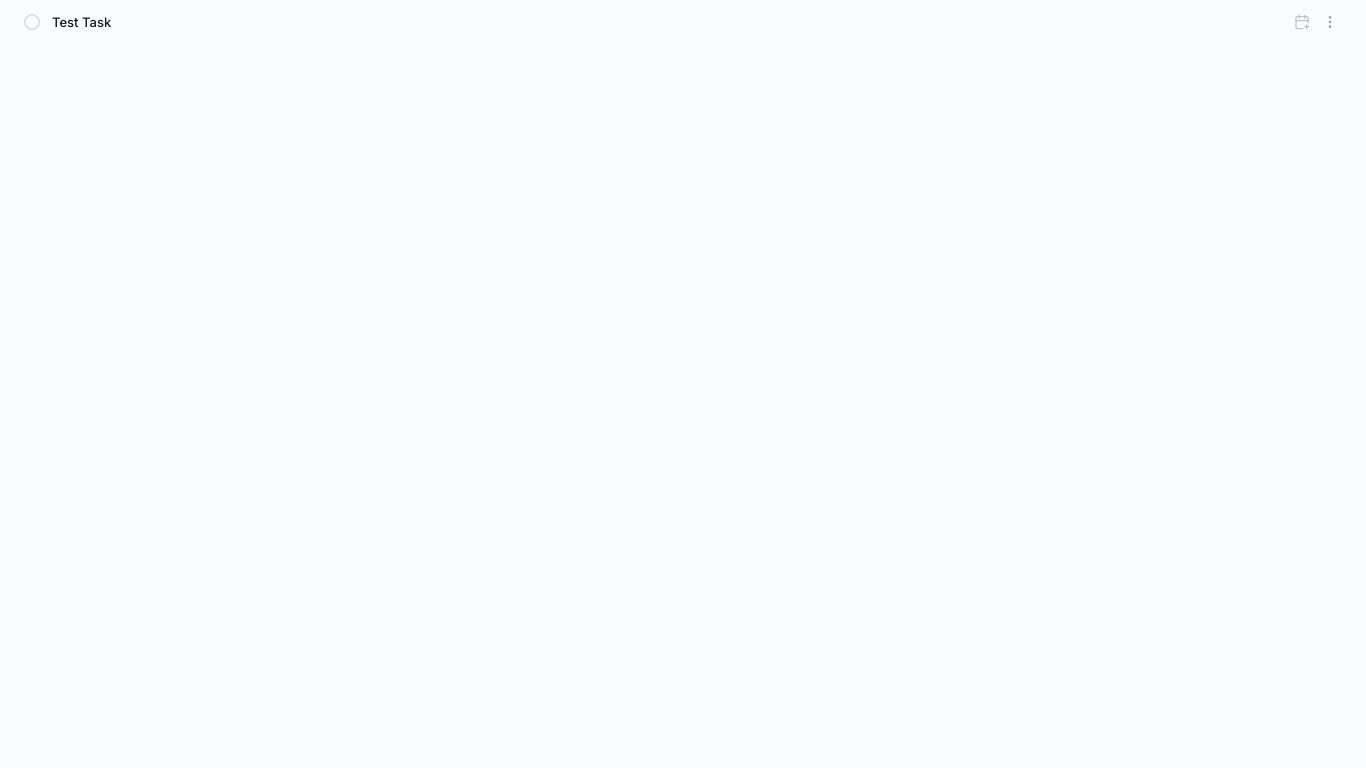
Test: TaskItem Component › Inline Editing and Detail Sheet › opens the Task Detail Sheet when title is clicked in task view (non-calendar mode)
The image size is (1366, 768).
Click the button "Test Task".
click(82, 22)  # box [52,14,111,30]
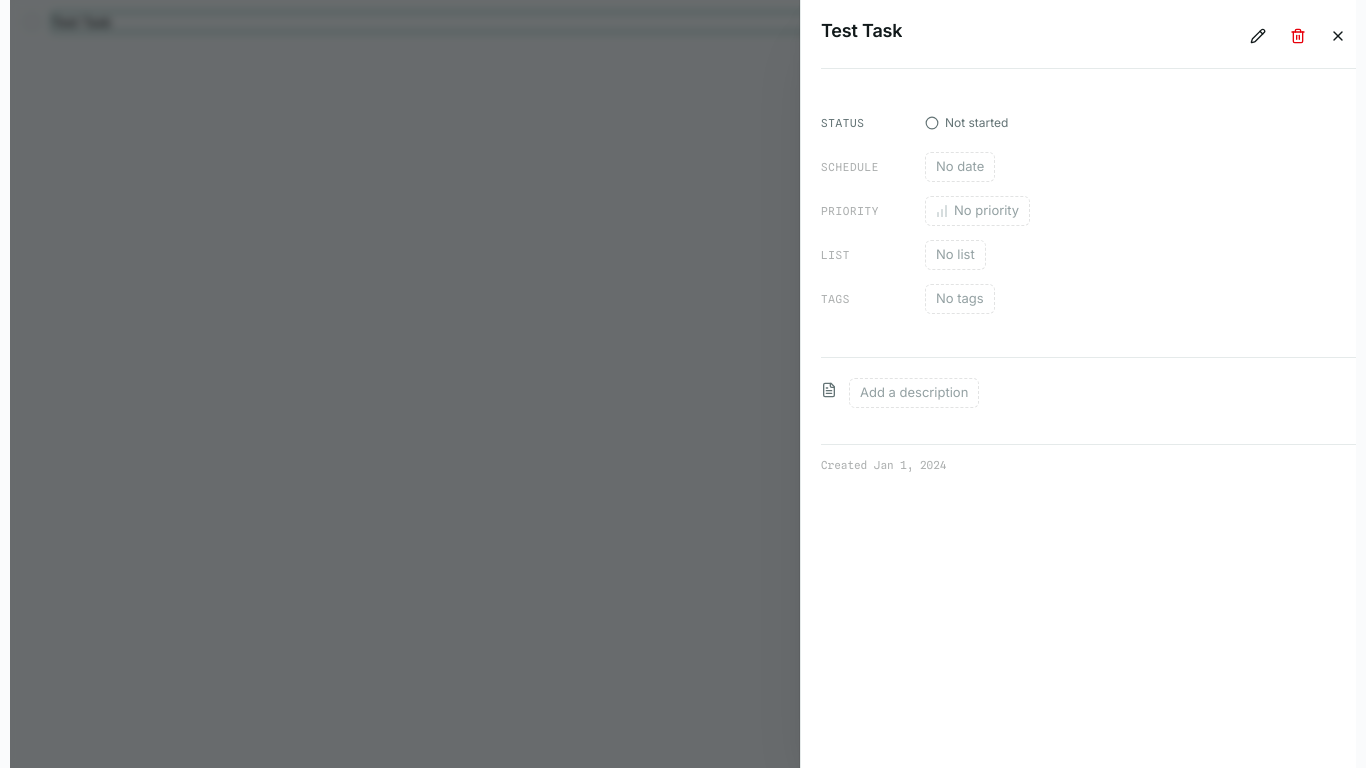
Expected: the button named "Close dialog" is shown, [1320,20,1356,52]
